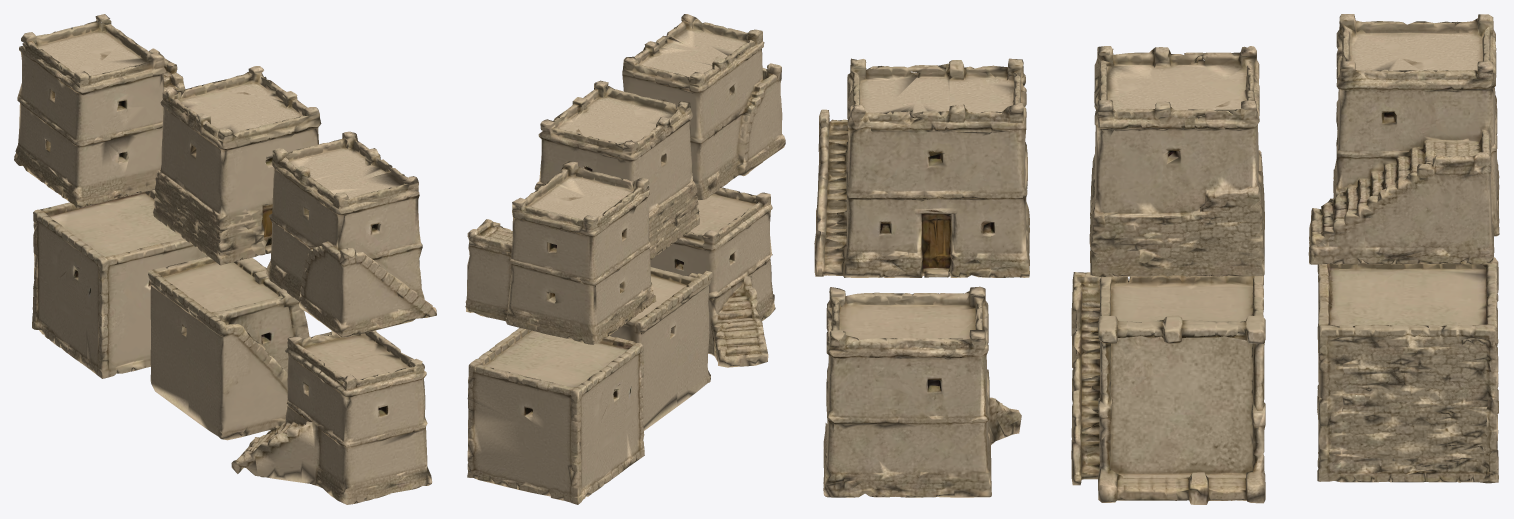
File: house_slope_game.glb
The picture shows the model from 3 angles, left to right: view 1: azimuth 30°, elevation 25°; view 2: azimuth 150°, elevation 25°; view 3: azimuth 270°, elevation 25°; orthographic projection. The views are drawn at different scales.
Parts seen in each view (by area): view 1: tripo_node_71417de3-8ca4-4ab4-9b22-f83c710f30ad; view 2: tripo_node_71417de3-8ca4-4ab4-9b22-f83c710f30ad; view 3: tripo_node_71417de3-8ca4-4ab4-9b22-f83c710f30ad.
Part boxes in pixels (left/top/right/bottom): tripo_node_71417de3-8ca4-4ab4-9b22-f83c710f30ad: left=14, top=14, right=436, bottom=504; tripo_node_71417de3-8ca4-4ab4-9b22-f83c710f30ad: left=465, top=14, right=785, bottom=504; tripo_node_71417de3-8ca4-4ab4-9b22-f83c710f30ad: left=814, top=14, right=1499, bottom=504.
Bounding box in the file's own units: 0.3713 × 0.6136 × 0.9791.
Materials: 1 (1 with a texture image).
